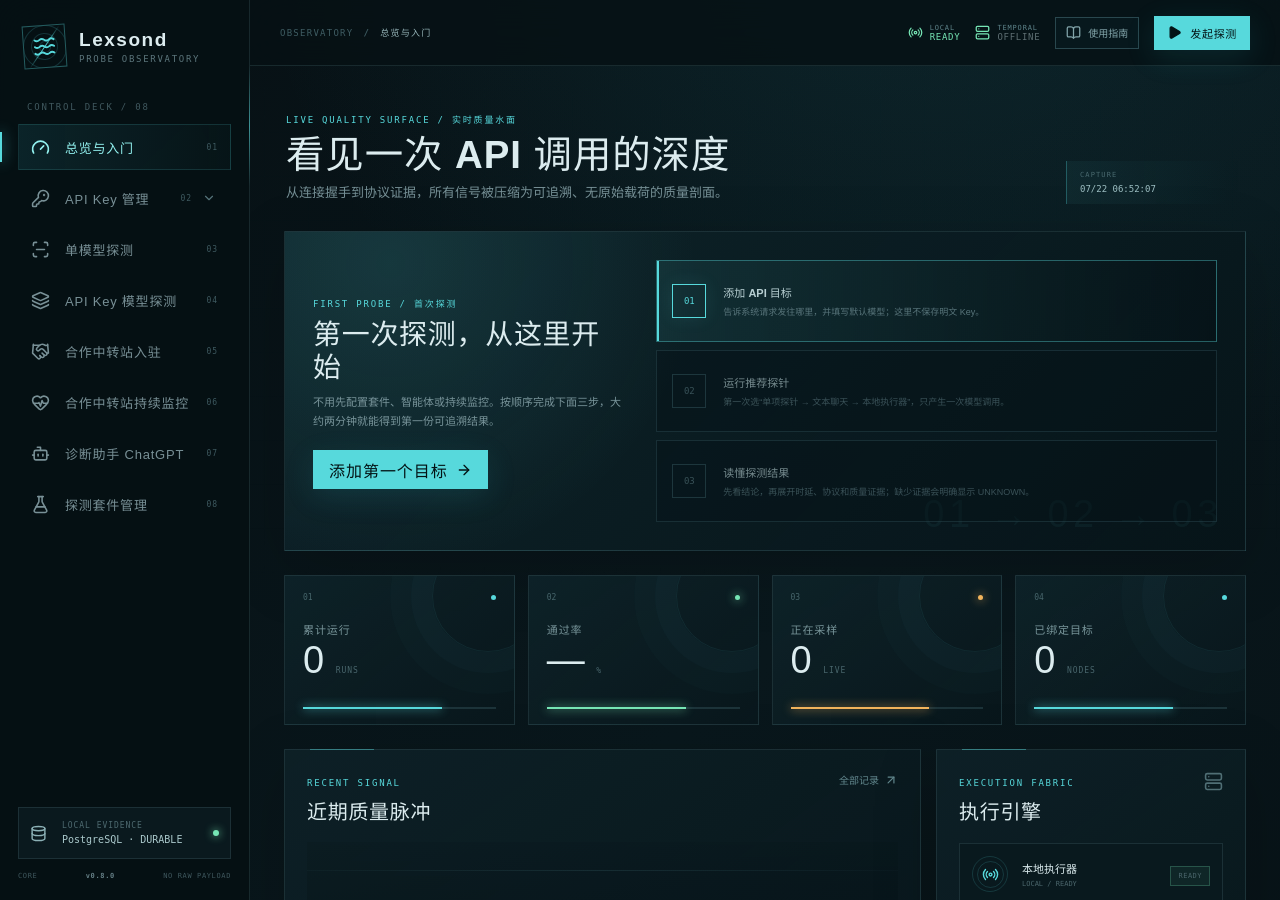
it: observatory console › keeps the eight product modules in the required order and exposes API Key children
Expected: the heading "第一次探测，从这里开始" is shown, [313,320,628,384]
Step 1. Click the button named "展开密钥管理子菜单" → click(209, 198), box [194,183,224,213]
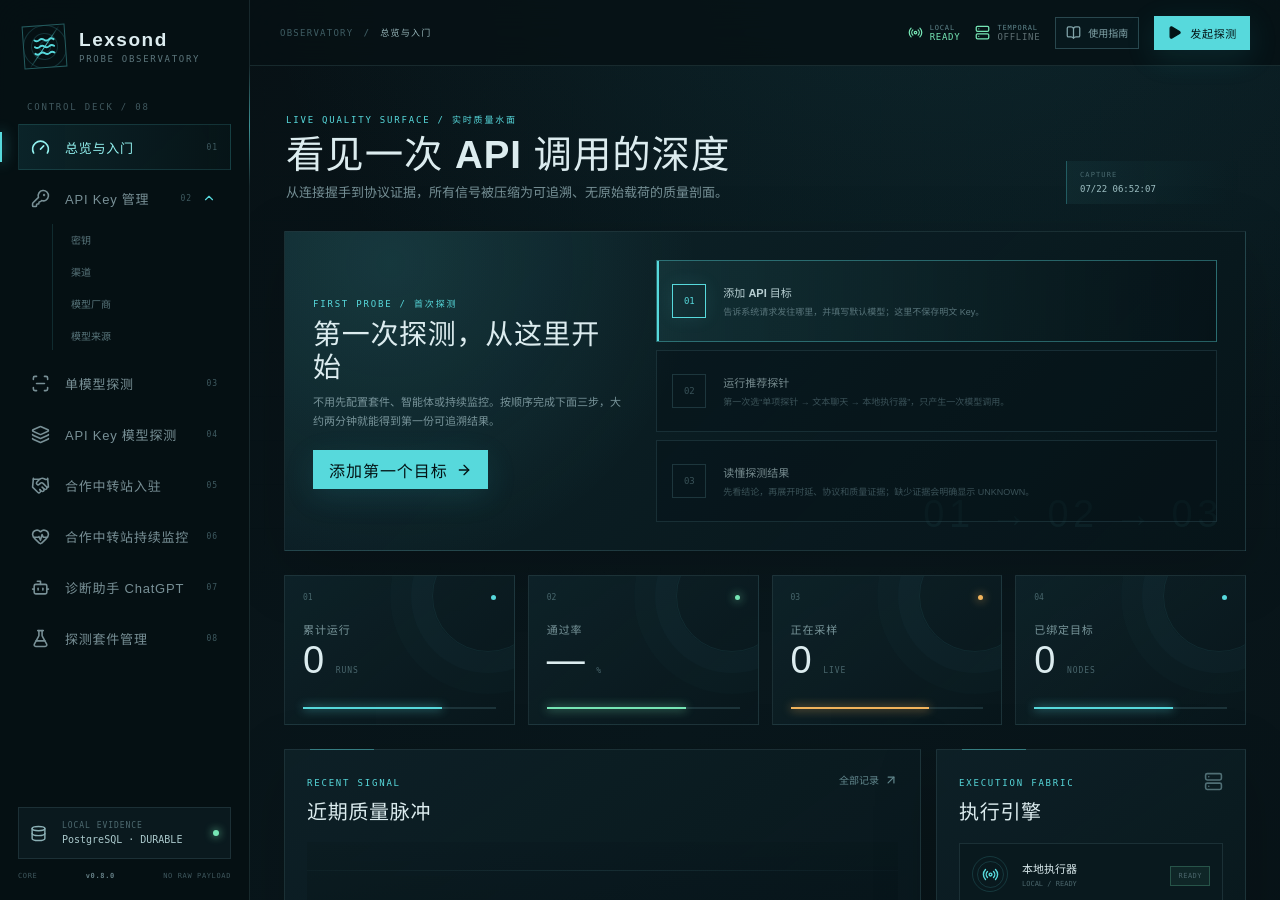
Expected: the links read "密钥", "渠道", "模型厂商", "模型来源", in this order, [71,234,91,246]; [71,266,91,278]; [71,298,111,310]; [71,330,111,342]
